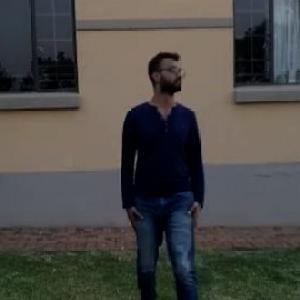follow: (112, 30, 216, 299)
